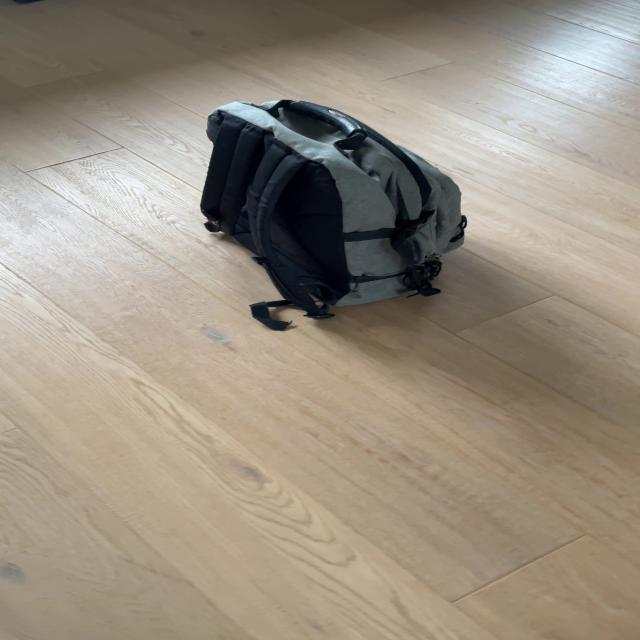backpack: (187, 90, 479, 328)
